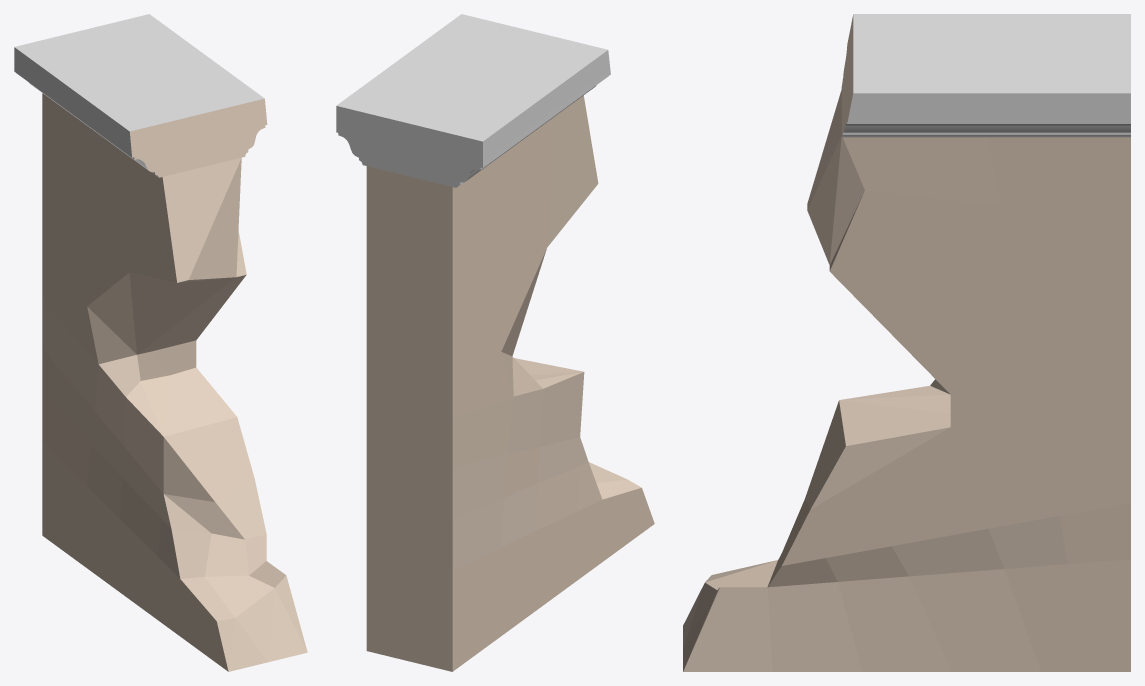
3 renders of one model, left to right at view 1: azimuth 30°, elevation 25°; view 2: azimuth 150°, elevation 25°; view 3: azimuth 270°, elevation 25°, orthographic. The views are drawn at different scales.
Parts seen in each view (by area): view 1: Cube.011; view 2: Cube.011; view 3: Cube.011.
Boxes of the visible parts, left/top/right/bottom form: Cube.011: left=14, top=14, right=307, bottom=671; Cube.011: left=336, top=14, right=654, bottom=671; Cube.011: left=683, top=14, right=1130, bottom=671.
Bounding box in the file's own units: 98.57 × 345 × 235.
